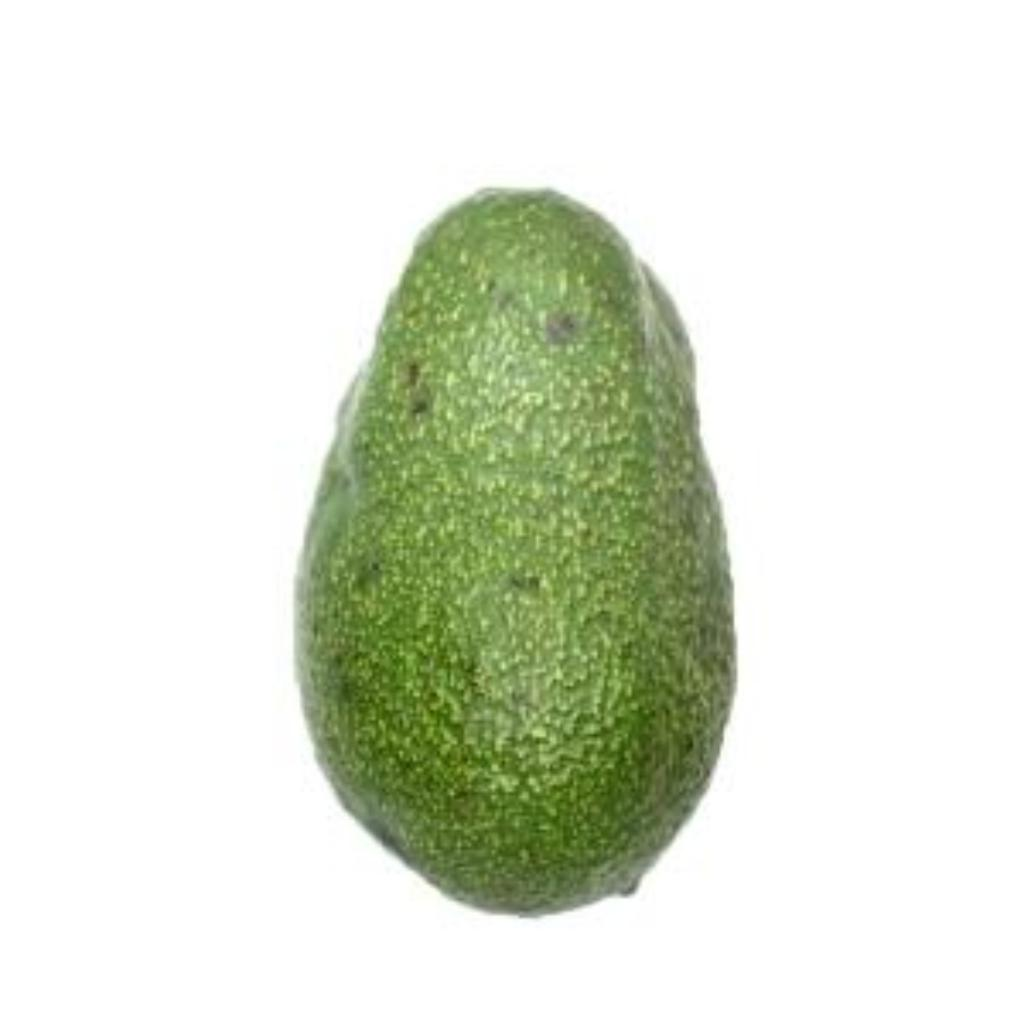cercospora: (280, 160, 754, 921)
